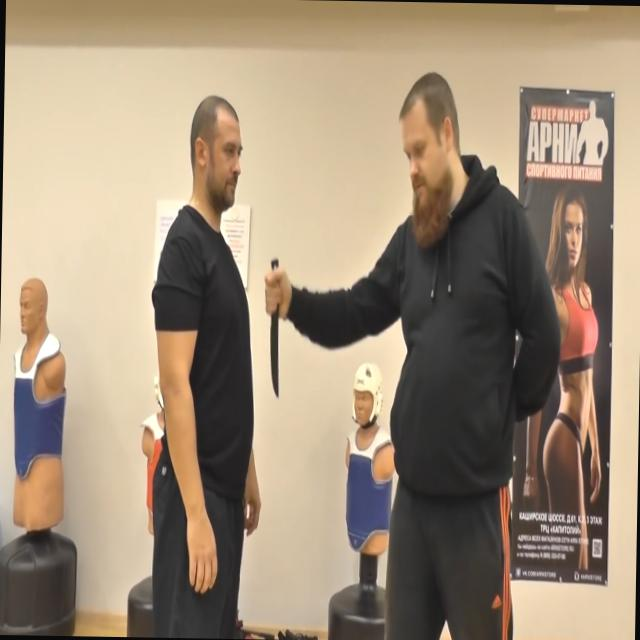knife: (260, 252, 288, 402)
